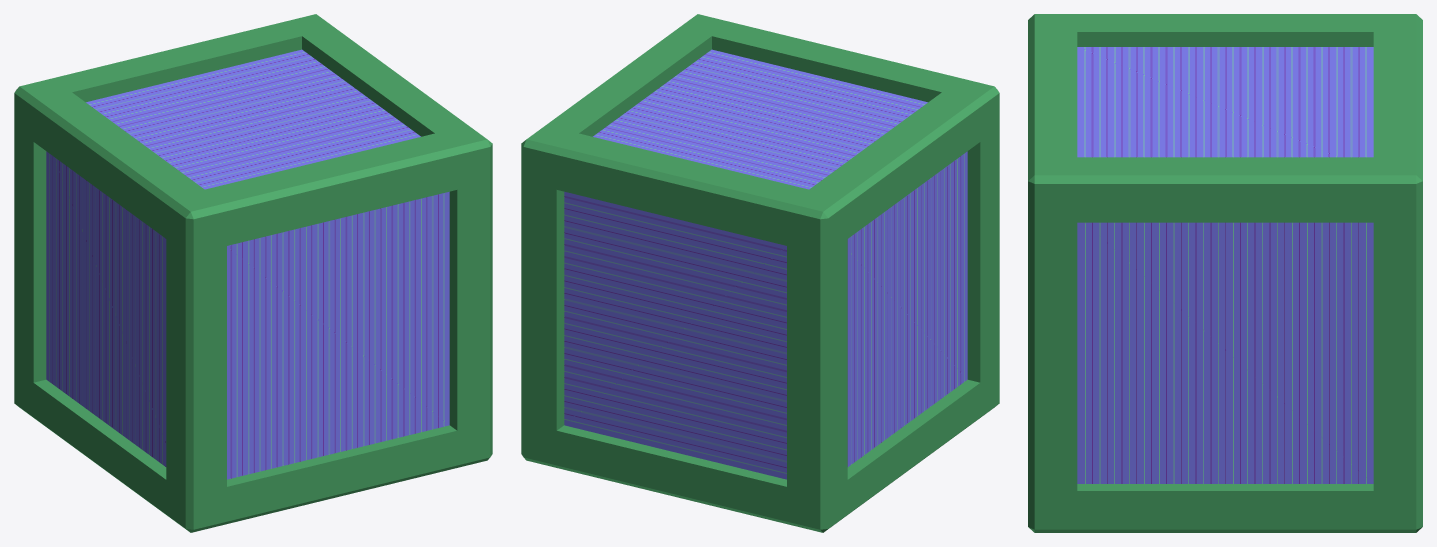
Rendered from WoodBlocks_Gr_00.FBX.
The picture shows the model from 3 angles, left to right: view 1: azimuth 30°, elevation 25°; view 2: azimuth 150°, elevation 25°; view 3: azimuth 270°, elevation 25°; orthographic projection. The views are drawn at different scales.
Parts seen in each view (by area): view 1: WoodBlocks_Gr_Rough_00, WoodBlocks_Gr_00; view 2: WoodBlocks_Gr_Rough_00, WoodBlocks_Gr_00; view 3: WoodBlocks_Gr_Rough_00, WoodBlocks_Gr_00.
Part boxes in pixels (x1=…): WoodBlocks_Gr_Rough_00: x1=46, y1=49, x2=449, y2=479; WoodBlocks_Gr_00: x1=14, y1=14, x2=492, y2=532; WoodBlocks_Gr_Rough_00: x1=564, y1=49, x2=967, y2=479; WoodBlocks_Gr_00: x1=521, y1=14, x2=999, y2=532; WoodBlocks_Gr_Rough_00: x1=1077, y1=47, x2=1373, y2=483; WoodBlocks_Gr_00: x1=1028, y1=14, x2=1422, y2=532.
Bounding box in the file's own units: 1.2 × 1.2 × 1.2.
